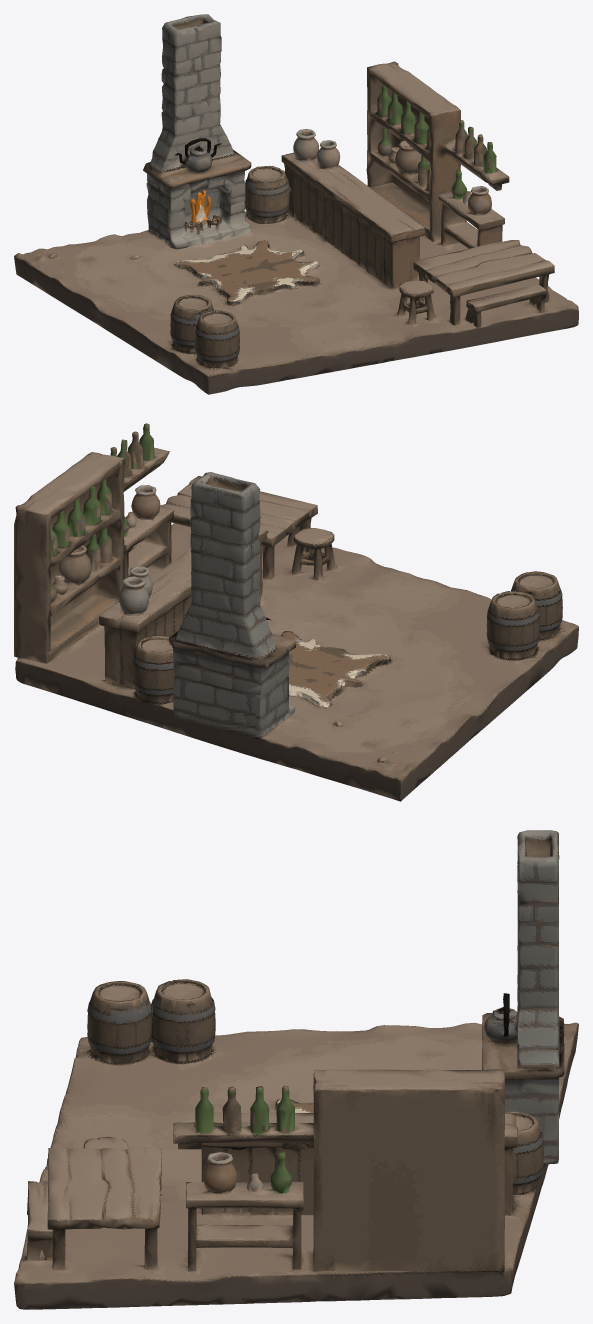
The model's file is posada_muebles.glb.
The picture shows the model from 3 angles, top to bottom: view 1: azimuth 30°, elevation 25°; view 2: azimuth 150°, elevation 25°; view 3: azimuth 270°, elevation 25°; orthographic projection. The views are drawn at different scales.
Visible parts, largest first — view 1: tripo_node_1533c053-b3b3-4b12-8263-185ed3dd1467; view 2: tripo_node_1533c053-b3b3-4b12-8263-185ed3dd1467; view 3: tripo_node_1533c053-b3b3-4b12-8263-185ed3dd1467.
Boxes of the visible parts, x1=… form: tripo_node_1533c053-b3b3-4b12-8263-185ed3dd1467: x1=14, y1=14, x2=578, y2=394; tripo_node_1533c053-b3b3-4b12-8263-185ed3dd1467: x1=14, y1=423, x2=578, y2=801; tripo_node_1533c053-b3b3-4b12-8263-185ed3dd1467: x1=14, y1=830, x2=578, y2=1309.
Bounding box in the file's own units: 1.75 × 1 × 1.6.
1 material, 1 textured.
